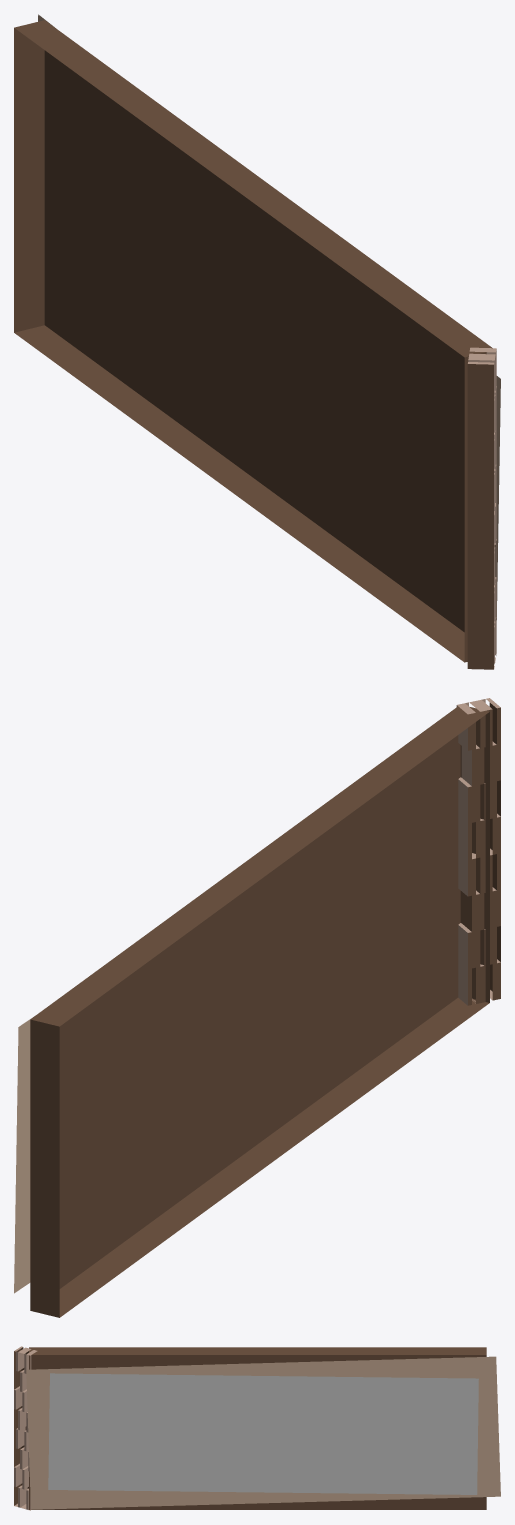
The model's file is Cardboard.fbx.
3 renders of one model, top to bottom at view 1: azimuth 30°, elevation 25°; view 2: azimuth 150°, elevation 25°; view 3: azimuth 270°, elevation 25°, orthographic. The views are drawn at different scales.
Visible parts, largest first — view 1: Cardboard; view 2: Cardboard; view 3: Cardboard.
Boxes of the visible parts, x1,y1,x2,y2 form: Cardboard: [14, 14, 500, 669]; Cardboard: [14, 698, 500, 1317]; Cardboard: [14, 1346, 500, 1510].
Size of the model in its own units: 0.1009 by 0.7014 by 2.
